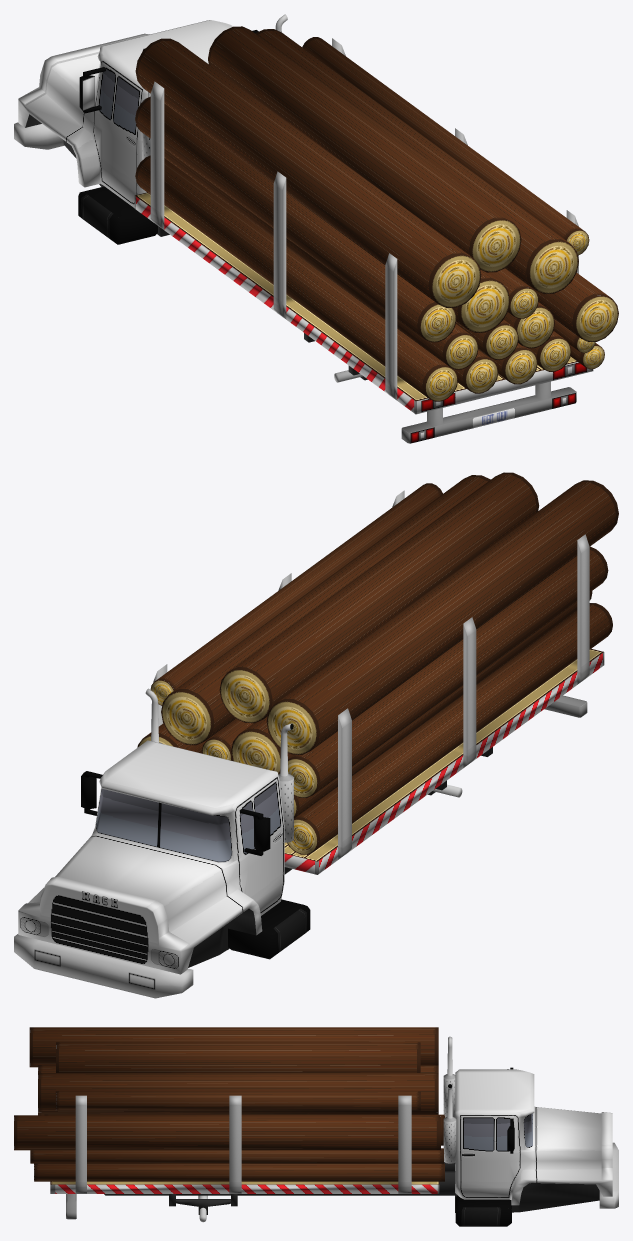
The model's file is 87macktrucklogcarrier.fbx.
3 renders of one model, top to bottom at view 1: azimuth 30°, elevation 25°; view 2: azimuth 150°, elevation 25°; view 3: azimuth 270°, elevation 25°, orthographic. The views are drawn at different scales.
Visible parts, largest first — view 1: mackr680; view 2: mackr680; view 3: mackr680.
Part boxes in pixels (x1=…): mackr680: x1=14, y1=14, x2=618, y2=443; mackr680: x1=14, y1=472, x2=618, y2=998; mackr680: x1=14, y1=1027, x2=618, y2=1226.
Bounding box in the file's own units: 2.67 × 3.05 × 10.52.
